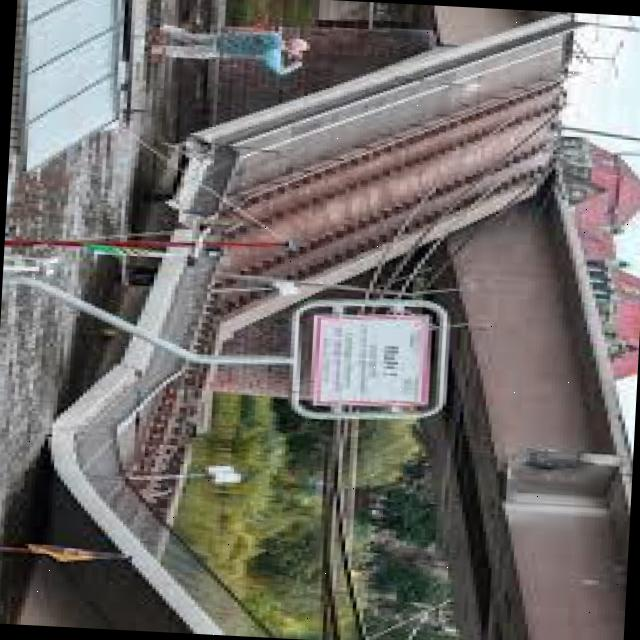bridge collapse: (0, 1, 598, 640)
